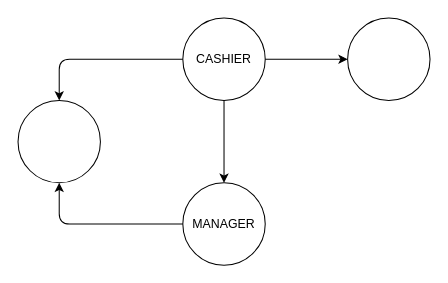
Some shapes in this 448 by 283 pixel diagram are drawn without their labels. The shapes that lost their labels are listed below. From the top down, each one's centre as x and y in pixels, then its label:
At (x=388, y=58): "WAITER".
At (x=58, y=141): "COOK".
